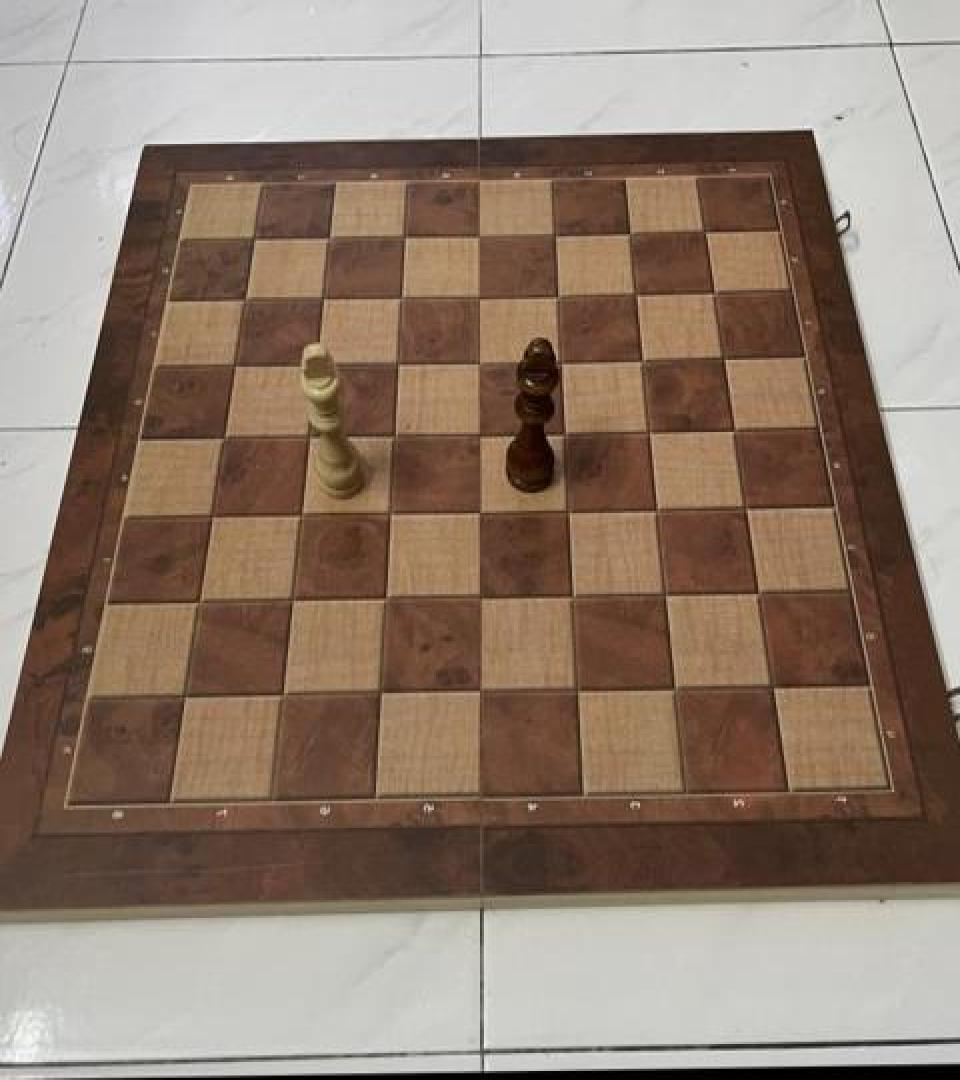xcorner: (389, 219, 423, 258), (293, 418, 327, 457), (239, 223, 273, 261), (314, 222, 348, 260), (464, 218, 498, 256), (539, 217, 573, 255), (614, 216, 648, 254), (689, 215, 723, 253), (229, 284, 263, 322), (307, 282, 341, 320), (385, 280, 419, 318), (463, 279, 497, 317), (541, 278, 575, 316), (619, 276, 653, 314), (697, 274, 731, 312), (219, 349, 253, 387), (301, 346, 335, 384), (382, 346, 416, 384), (463, 344, 497, 382), (544, 343, 578, 381), (626, 341, 660, 379), (707, 340, 741, 378), (209, 420, 243, 458), (378, 416, 412, 454), (463, 415, 497, 453), (547, 414, 581, 452), (632, 412, 666, 450), (717, 411, 751, 449), (197, 498, 231, 536), (285, 496, 319, 534), (374, 494, 408, 532), (462, 493, 496, 531), (551, 490, 585, 528), (640, 490, 674, 528), (728, 488, 762, 526), (184, 582, 218, 620), (276, 580, 310, 618), (369, 580, 403, 618), (462, 577, 496, 615), (555, 576, 589, 614), (648, 574, 682, 612), (740, 573, 774, 611), (169, 675, 203, 713), (267, 674, 301, 712), (364, 672, 398, 710), (462, 670, 496, 708), (559, 668, 593, 706), (656, 667, 690, 705), (754, 665, 788, 703)
